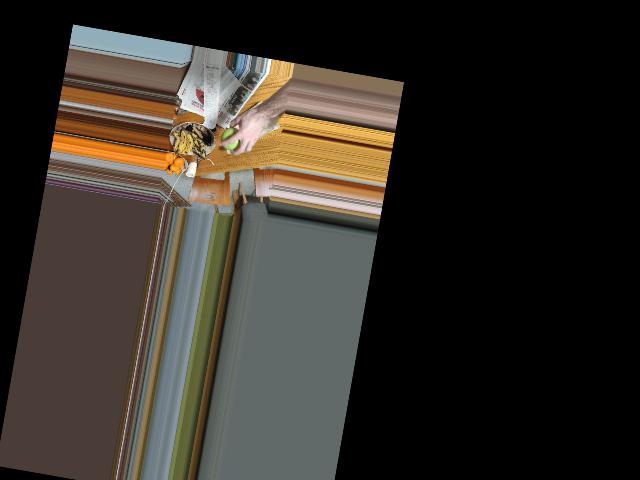apple: (219, 123, 247, 152)
